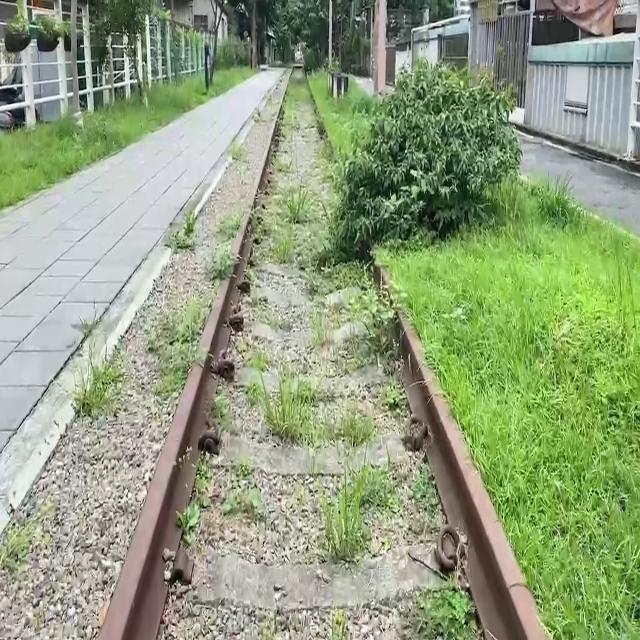rail-track: (159, 70, 460, 639)
